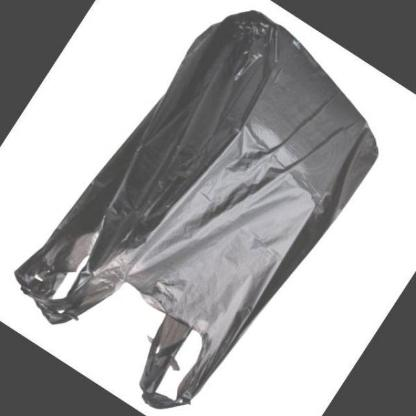Plastic Bag: (14, 8, 380, 408)
